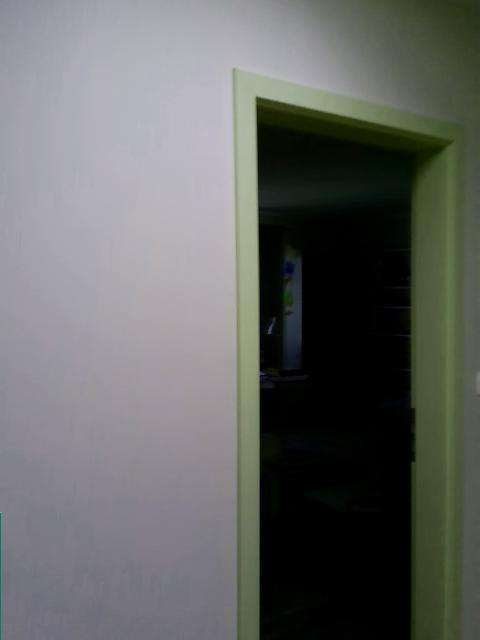open_door: (232, 66, 468, 639)
